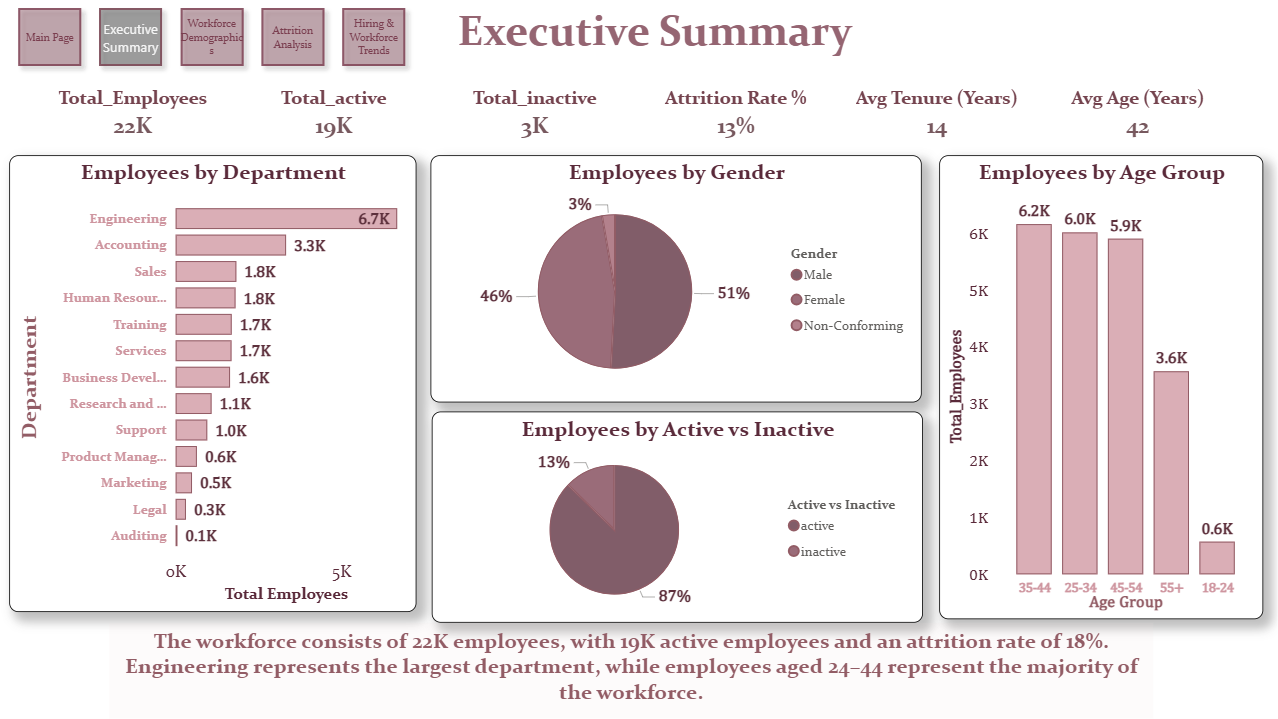

The dashboard page shown, as its layout file describes it:
{"tool":"powerbi","page":{"name":"Executive Summary ","canvas":[1280,720],"ordinal":1},"visuals":[{"type":"cardVisual","fields":{"Data":["_Mesures.Total_Employees","_Mesures.Total_active","_Mesures.Total_inactive","_Mesures.Attrition Rate %","_Mesures.Avg Tenure","_Mesures.Avg Age"]},"box":[21.2,62.5,1237.5,102.5],"z":0},{"type":"textbox","box":[418.8,0,485,76.2],"z":1000},{"type":"clusteredBarChart","title":"Employees by Department","fields":{"Category":["HR Data.department"],"Y":["_Mesures.Total_Employees"]},"box":[11.4,155.7,407.1,457.1],"z":2000},{"type":"pieChart","title":"Employees by Gender","fields":{"Category":["HR Data.gender"],"Y":["_Mesures.Total_Employees"]},"box":[432.9,155.7,491.4,247.1],"z":3000},{"type":"pieChart","title":"Employees by Active vs Inactive","fields":{"Category":["HR Data.Active_or_not"],"Y":["_Mesures.Total_Employees"]},"box":[434.3,412.9,491.4,211.4],"z":4000},{"type":"clusteredColumnChart","title":"Employees by Age Group","fields":{"Category":["HR Data.Age Group2"],"Y":["_Mesures.Total_Employees"]},"box":[941.4,155.7,324.3,464.3],"z":5000},{"type":"textbox","box":[111.4,624.3,1044.3,95.7],"z":6000},{"type":"pageNavigator","box":[11.2,0,407.5,76.2],"z":7000}]}

Visuals, with their boxes in screenshot pixels (x1, y1, x2, y2), scaled from the page's 1280x720 canvas onto the 1278x719 screenshot:
cardVisual - _Mesures.Total_Employees x _Mesures.Total_active: Rect(21, 62, 1257, 165)
textbox: Rect(418, 0, 902, 76)
"Employees by Department" clusteredBarChart: Rect(11, 155, 418, 612)
"Employees by Gender" pieChart: Rect(432, 155, 923, 402)
"Employees by Active vs Inactive" pieChart: Rect(434, 412, 924, 623)
"Employees by Age Group" clusteredColumnChart: Rect(940, 155, 1264, 619)
textbox: Rect(111, 623, 1154, 718)
pageNavigator: Rect(11, 0, 418, 76)
